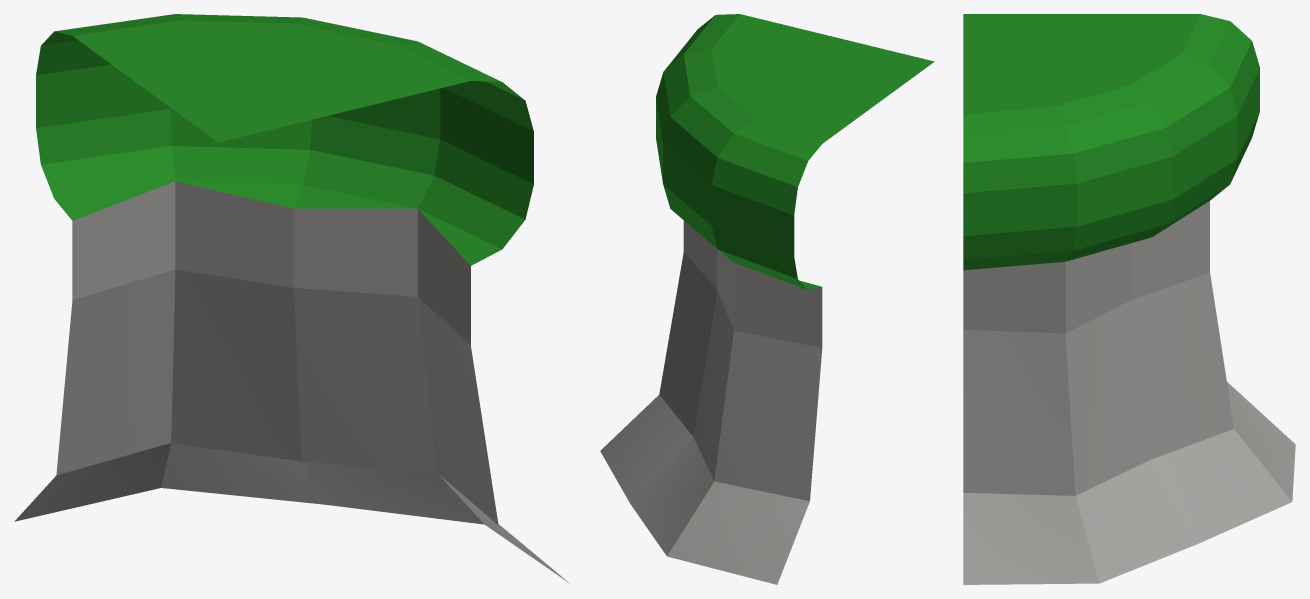
Rendered from Terrain_Cliff_2_Tall_Corner_Outer_1x1.obj.
The picture shows the model from 3 angles, left to right: view 1: azimuth 30°, elevation 25°; view 2: azimuth 150°, elevation 25°; view 3: azimuth 270°, elevation 25°; orthographic projection. The views are drawn at different scales.
Visible parts, largest first — view 1: Rock, Grass; view 2: Rock, Grass; view 3: Rock, Grass.
Part boxes in pixels (x1=…): Rock: x1=14, y1=181, x2=569, y2=583; Grass: x1=36, y1=14, x2=533, y2=265; Rock: x1=600, y1=220, x2=822, y2=584; Grass: x1=656, y1=14, x2=934, y2=290; Rock: x1=963, y1=201, x2=1295, y2=584; Grass: x1=963, y1=14, x2=1259, y2=270.
Bounding box in the file's own units: 1.4 × 2 × 1.4.
